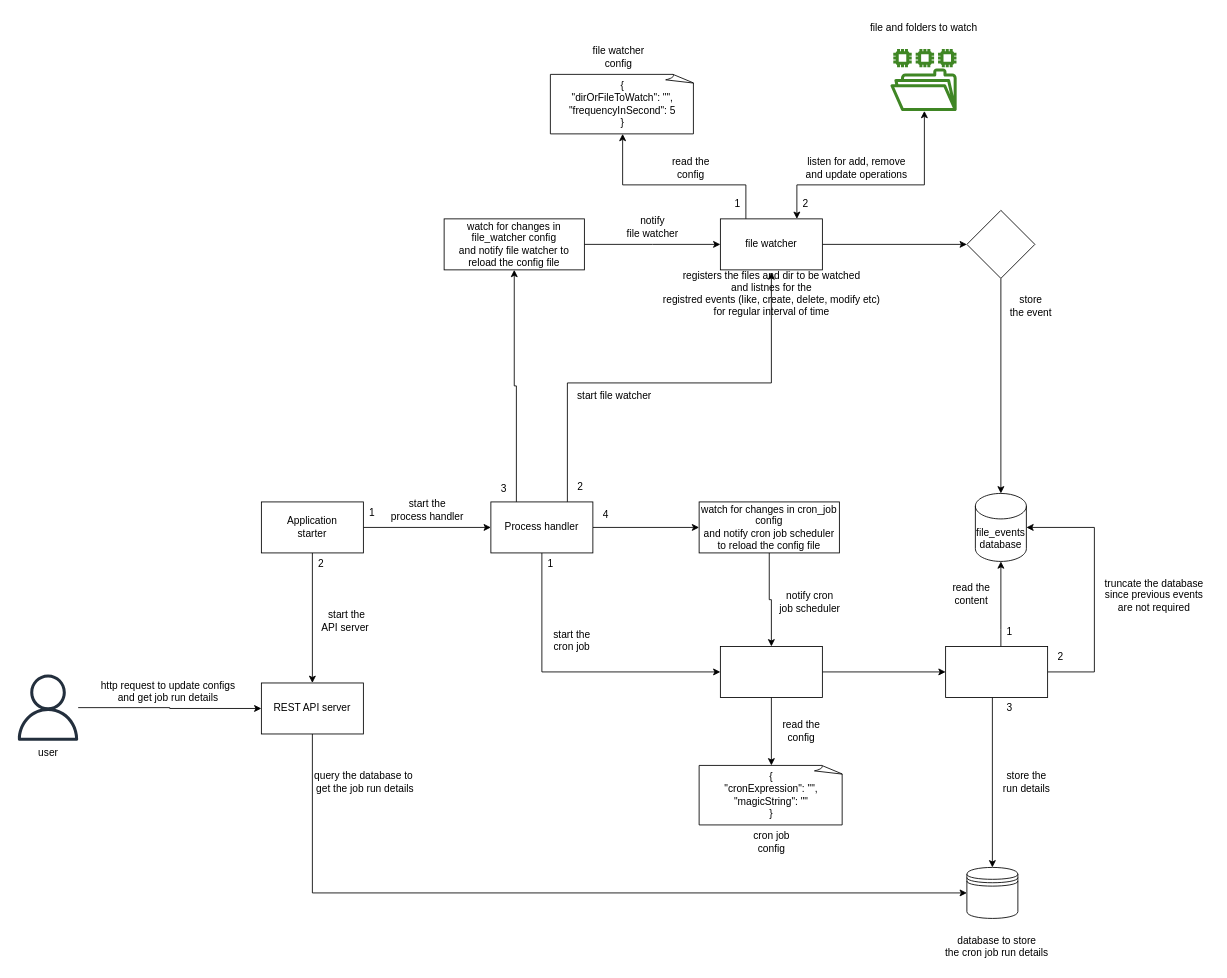
The diagram is 1227 pixels wide and 978 high, and some of its shapes have lost their labels. The shapes that lost their labels are listed below. From the top down, each one's centre as x and y in pixels, then its label:
At point (1000, 244): "event recived?".
At point (771, 671): "cron job scheduler".
At point (996, 671): "cron jon".
At point (992, 892): "job_runs database".
